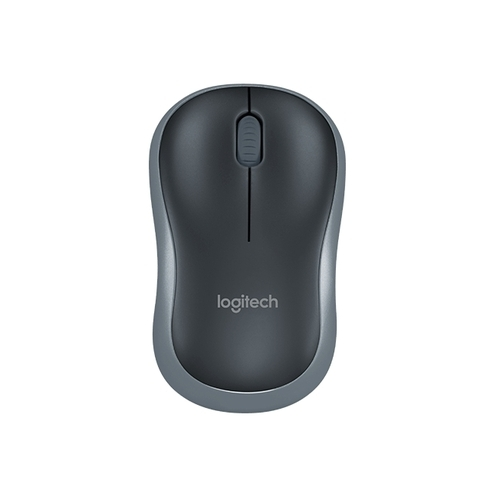logitech-mouse-m185: (146, 78, 350, 421)
